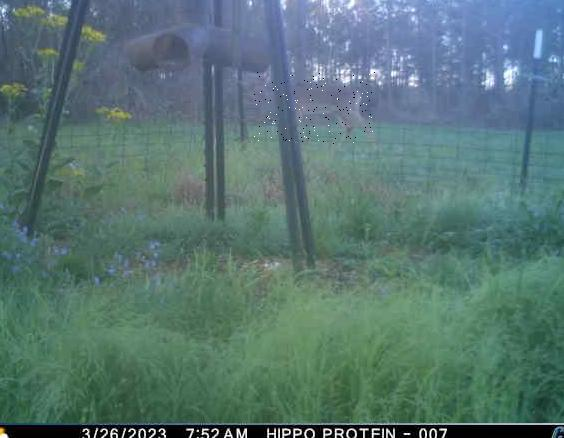Deer: (254, 72, 375, 145)
